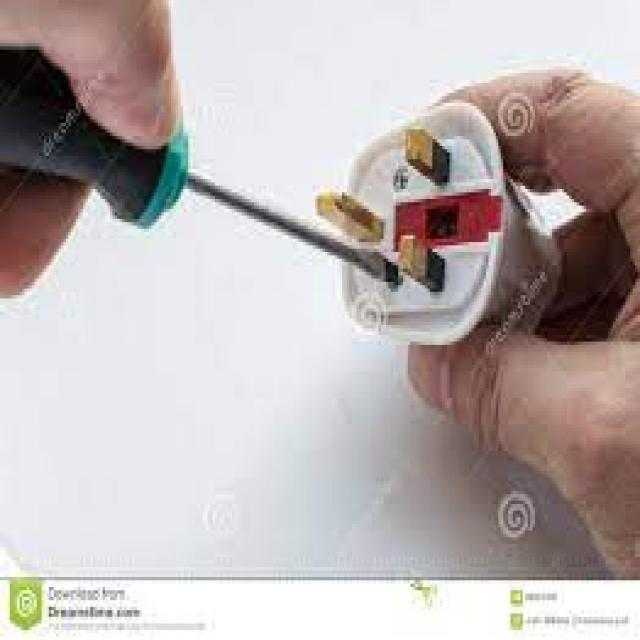screwdriver: (0, 33, 405, 288)
